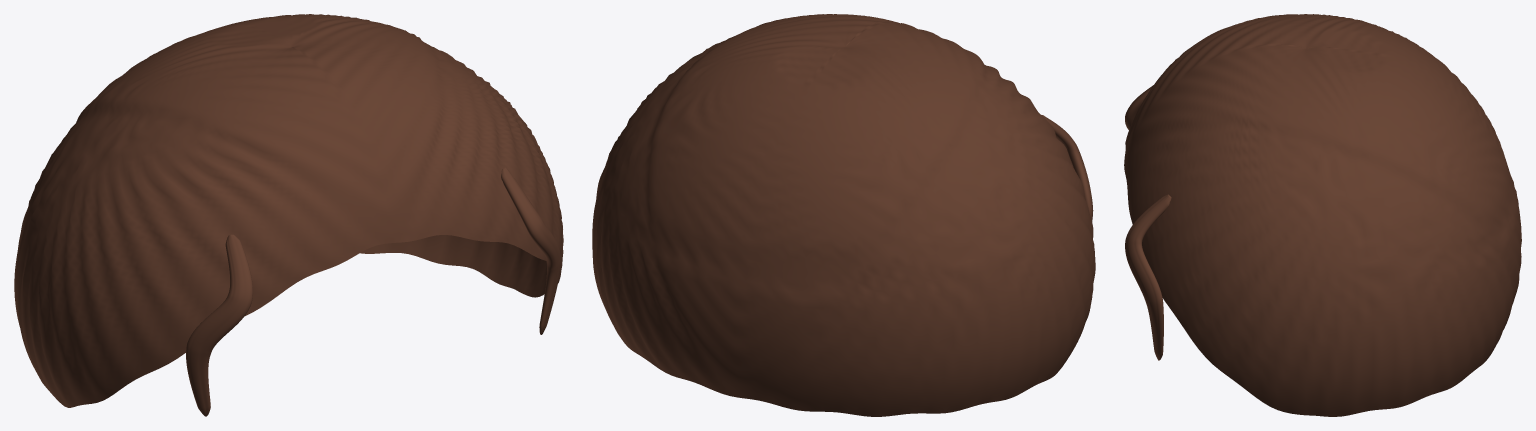
Rendered from Feminine-space-buns-bucket251-hair.glb.
The picture shows the model from 3 angles, left to right: view 1: azimuth 30°, elevation 25°; view 2: azimuth 150°, elevation 25°; view 3: azimuth 270°, elevation 25°; orthographic projection. The views are drawn at different scales.
Parts seen in each view (by area): view 1: 226 hair / Hair / chestnut226.002; view 2: 226 hair / Hair / chestnut226.002; view 3: 226 hair / Hair / chestnut226.002.
Boxes of the visible parts, bbox=[...] form: 226 hair / Hair / chestnut226.002: bbox=[14, 14, 563, 416]; 226 hair / Hair / chestnut226.002: bbox=[592, 14, 1095, 416]; 226 hair / Hair / chestnut226.002: bbox=[1124, 14, 1521, 416].
Size of the model in its own units: 0.9988 by 0.599 by 0.7845.
